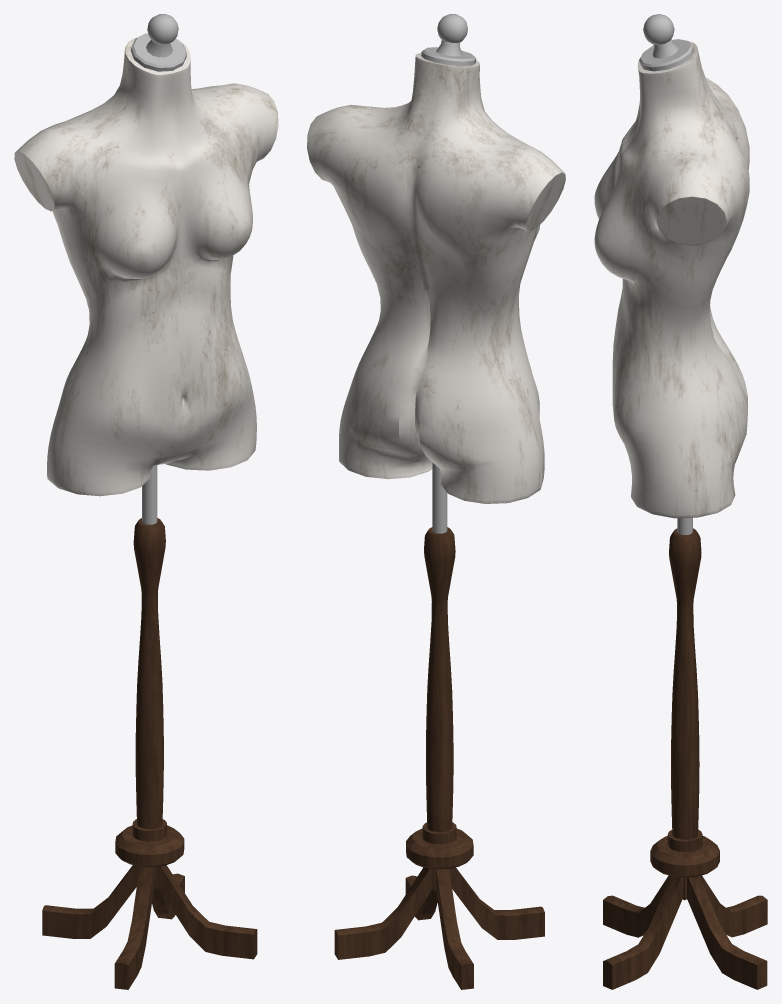
Rendered from mannequin-cc0.glb.
The picture shows the model from 3 angles, left to right: view 1: azimuth 30°, elevation 25°; view 2: azimuth 150°, elevation 25°; view 3: azimuth 270°, elevation 25°; orthographic projection. The views are drawn at different scales.
Parts seen in each view (by area): view 1: mannequin.001, mannequin; view 2: mannequin.001, mannequin; view 3: mannequin.001, mannequin.
Boxes of the visible parts, left/top/right/bottom form: mannequin.001: left=14, top=37, right=278, bottom=496; mannequin: left=42, top=14, right=257, bottom=989; mannequin.001: left=307, top=53, right=565, bottom=503; mannequin: left=334, top=14, right=544, bottom=989; mannequin.001: left=594, top=42, right=749, bottom=518; mannequin: left=603, top=14, right=767, bottom=989.
Bounding box in the file's own units: 0.4233 × 1.55 × 0.2593.
3 materials, 2 textured.
